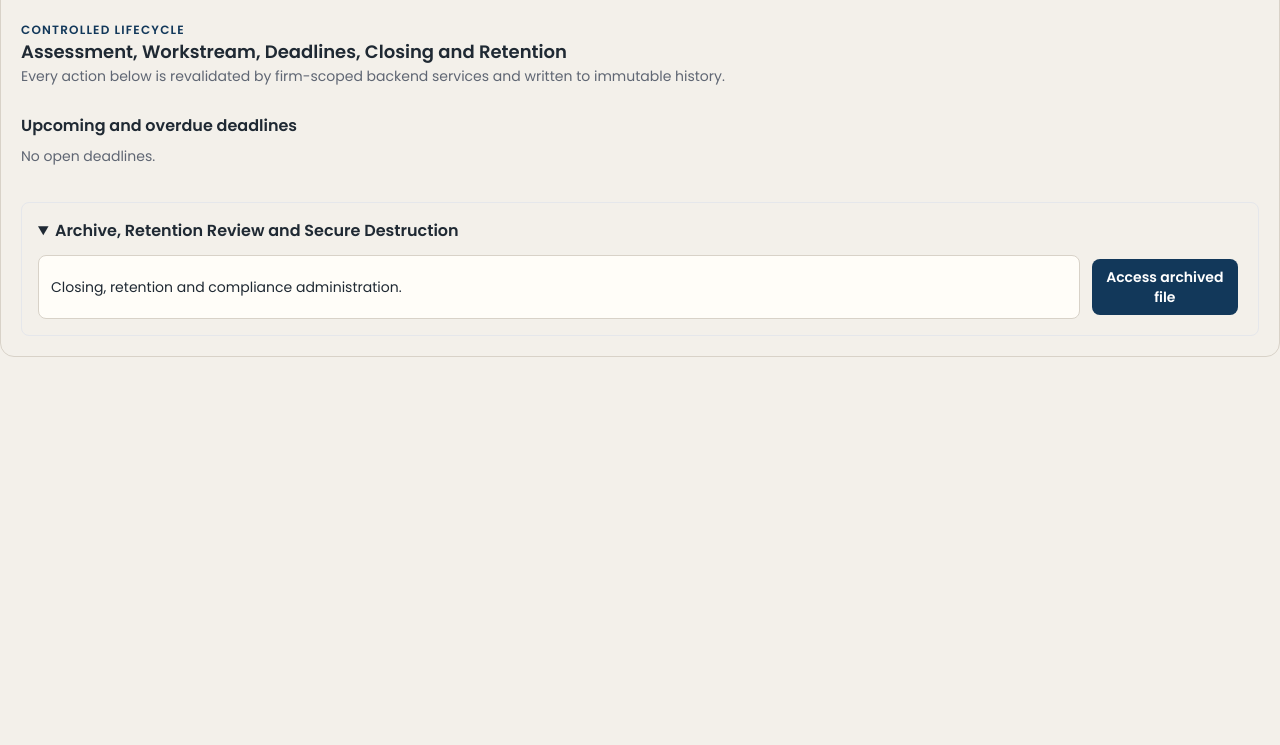
Test: MatterLifecycleControls › requires an explicit archive-access purpose and renders retention and destruction state returned by the API
The width and height of the screenshot is (1280, 745).
Click the button "Access archived file" at coordinates (1165, 287), box x1=1092 y1=259 x2=1238 y2=315
(page scrolled)
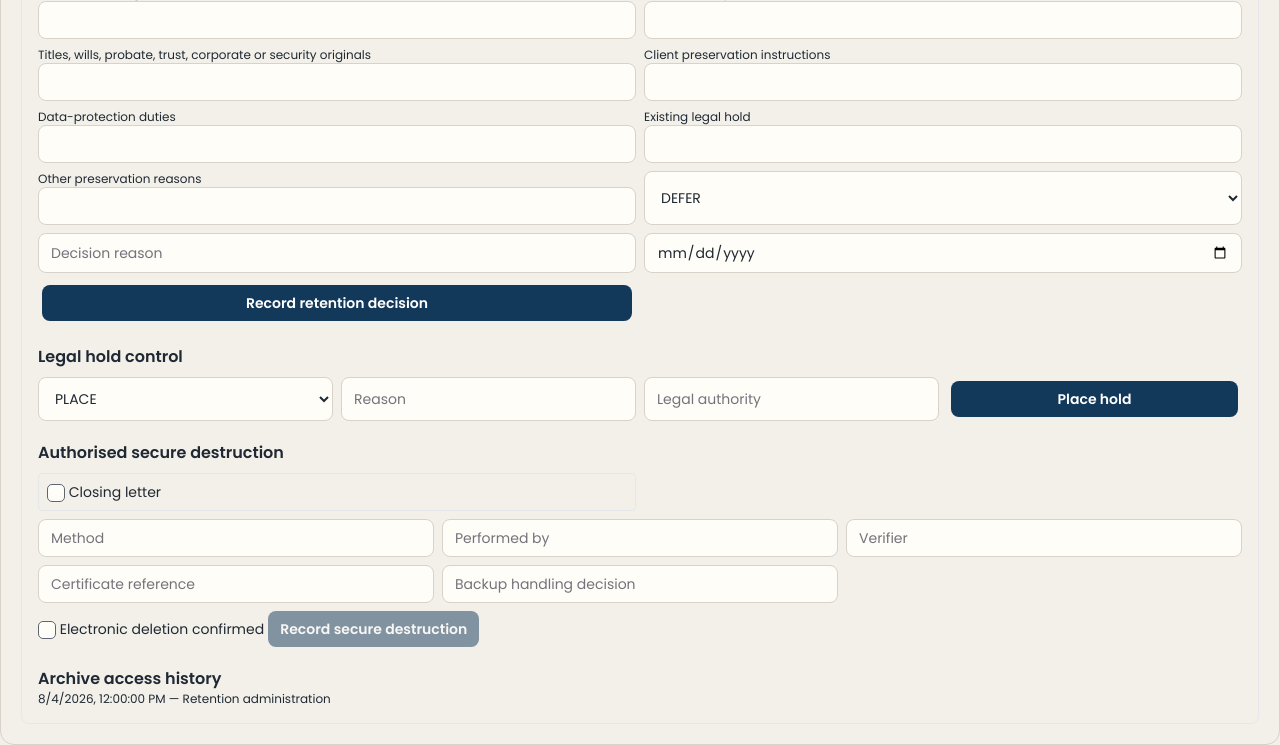
expect the heading "Authorised secure destruction" is shown: met, box x1=38 y1=441 x2=284 y2=464
